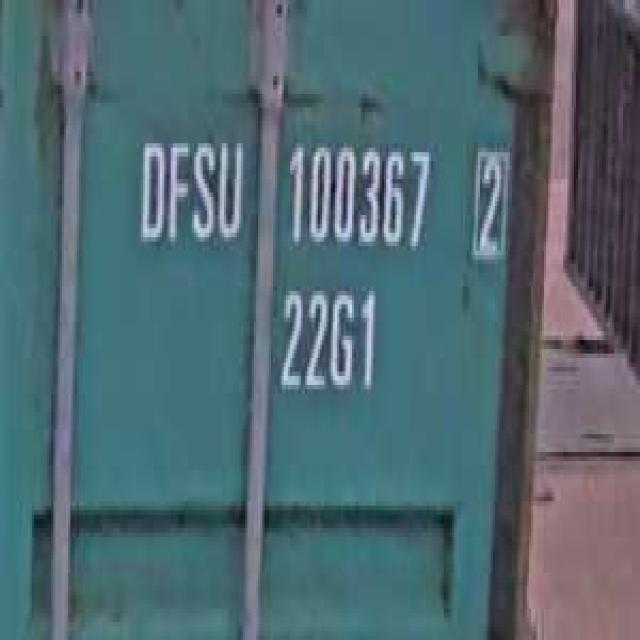dv: (467, 134, 510, 269)
owner: (134, 121, 246, 259)
serial: (280, 130, 433, 260)
size: (275, 277, 382, 403)
